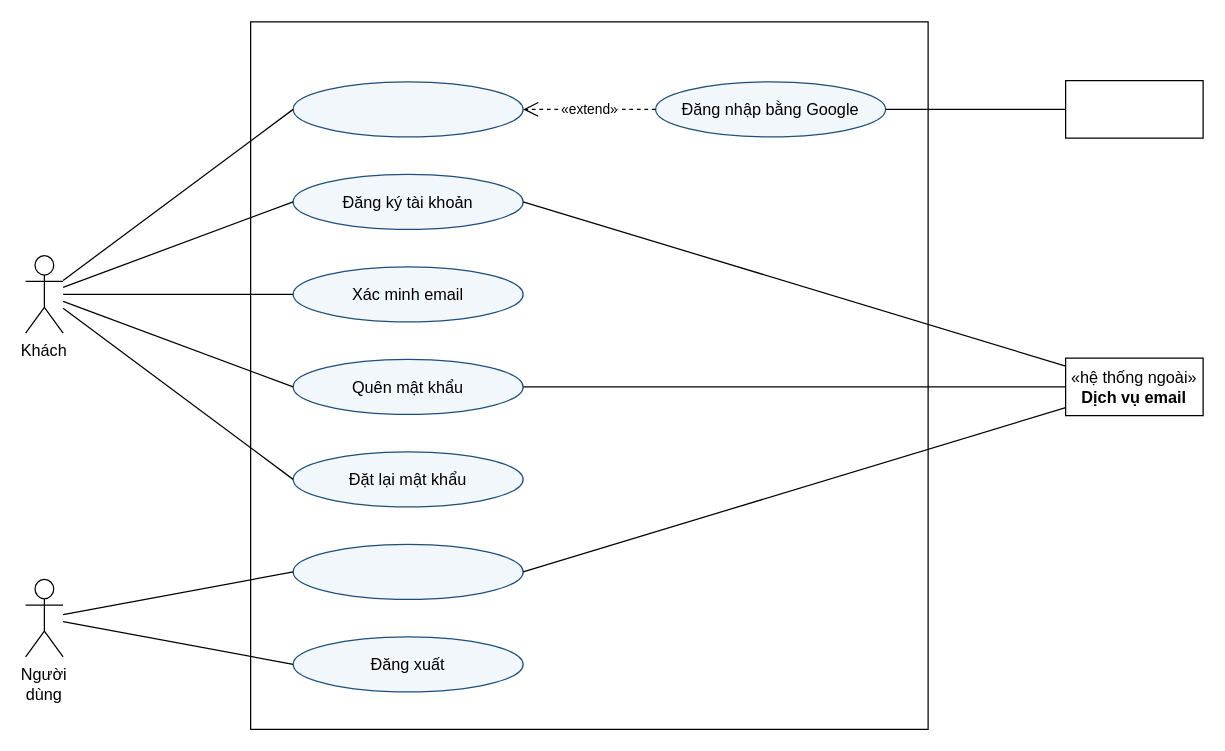
Some shapes in this 1225 by 751 pixel diagram are drawn without their labels. The shapes that lost their labels are listed below. From the top down, each one's box as (x1, y1, x2, y2) in pixels, then its label:
(292, 81, 523, 137): Đăng nhập
(1064, 79, 1203, 138): «hệ thống ngoài» Google
(249, 21, 928, 729): Hệ thống TaskFlow
(292, 543, 523, 599): Gửi lại email xác minh
